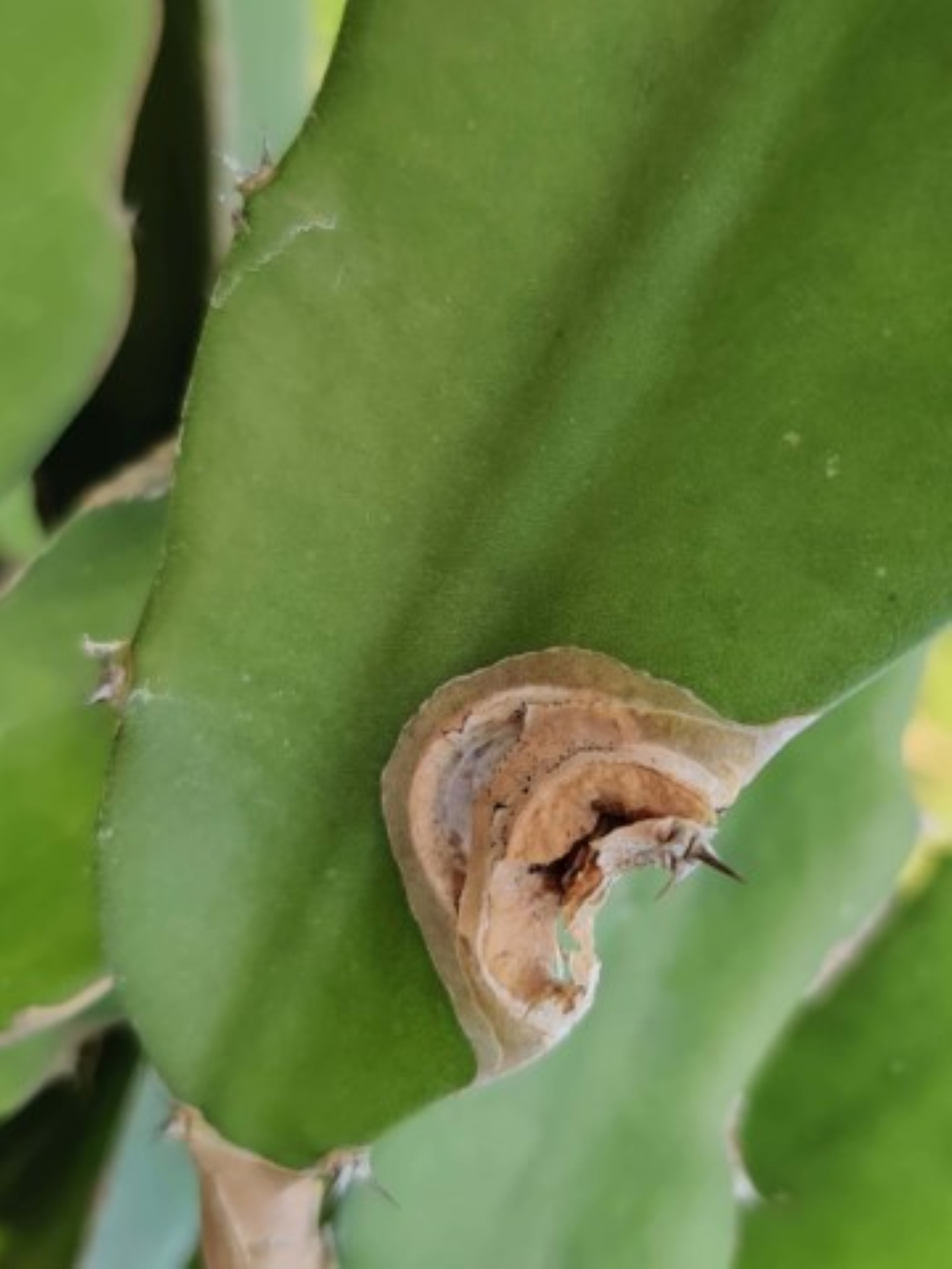stemcanker: (379, 640, 834, 1086)
